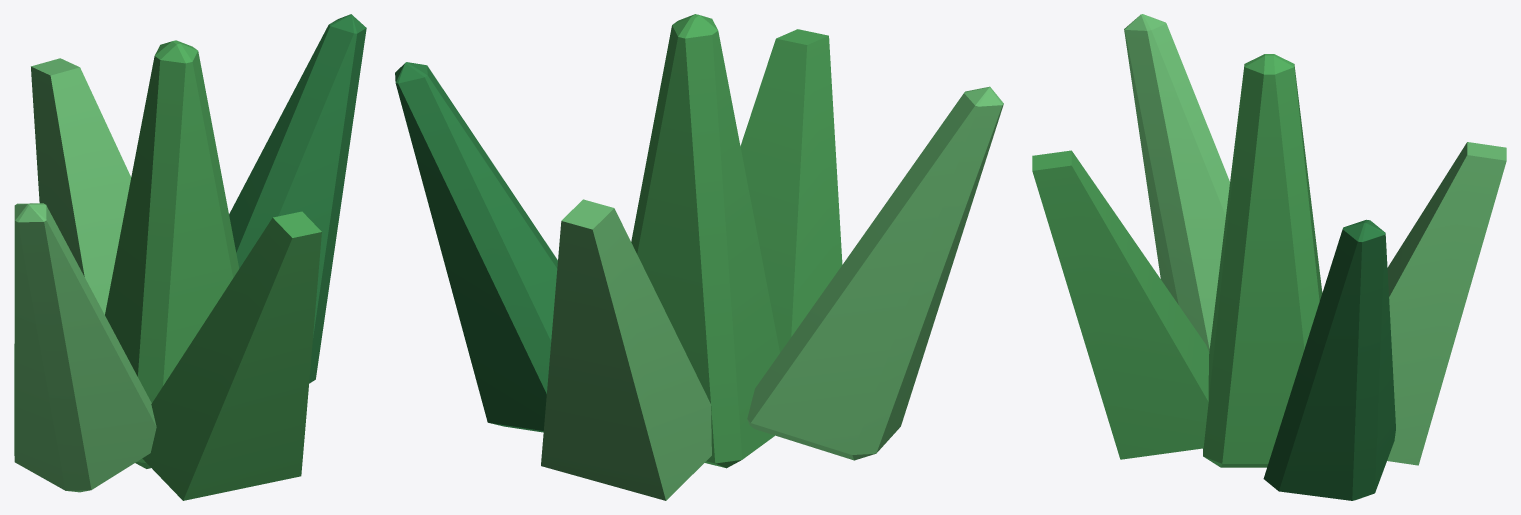
File: grass-tuft.glb
3 renders of one model, left to right at view 1: azimuth 30°, elevation 25°; view 2: azimuth 150°, elevation 25°; view 3: azimuth 270°, elevation 25°, orthographic. The views are drawn at different scales.
Visible parts, largest first — view 1: grass-tuft; view 2: grass-tuft; view 3: grass-tuft.
Part boxes in pixels (x1,y1,x2,y2): grass-tuft: (14,14,366,500); grass-tuft: (395,14,1003,500); grass-tuft: (1032,14,1506,500).
Bounding box in the file's own units: 0.22 × 0.18 × 0.2.
